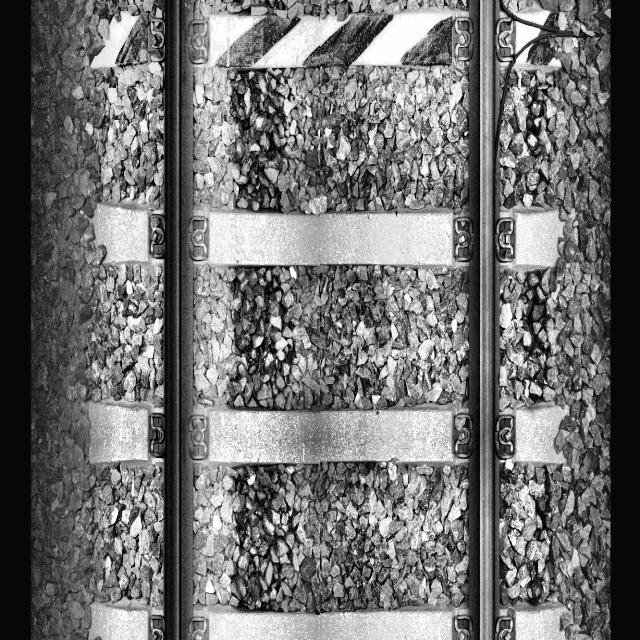Clips: (494, 216, 516, 262), (188, 19, 210, 64), (452, 217, 474, 262), (188, 215, 209, 262), (494, 16, 515, 62), (495, 414, 516, 459), (453, 413, 474, 458), (188, 414, 208, 460), (454, 16, 474, 62), (149, 17, 167, 65), (149, 213, 166, 260), (150, 412, 166, 458), (454, 613, 474, 640), (188, 615, 208, 640), (149, 614, 166, 640), (496, 616, 514, 640)
Sleepers: (88, 399, 571, 467), (82, 0, 565, 67), (92, 201, 572, 268), (88, 596, 570, 640)
